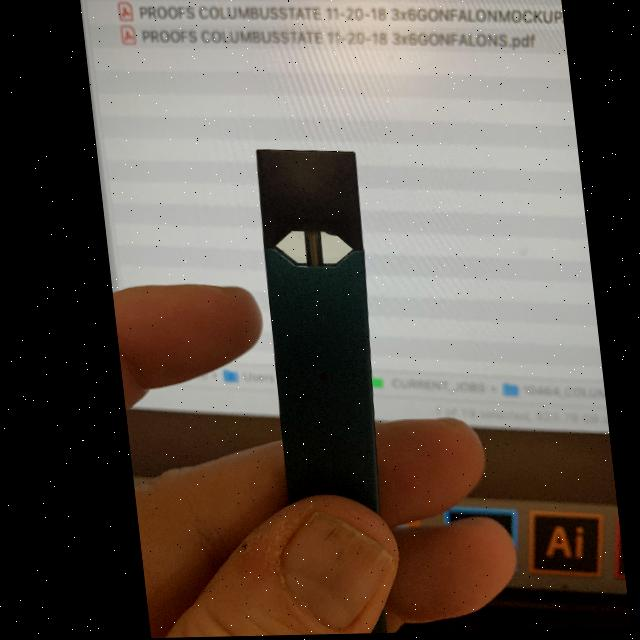vape: (246, 146, 385, 548)
